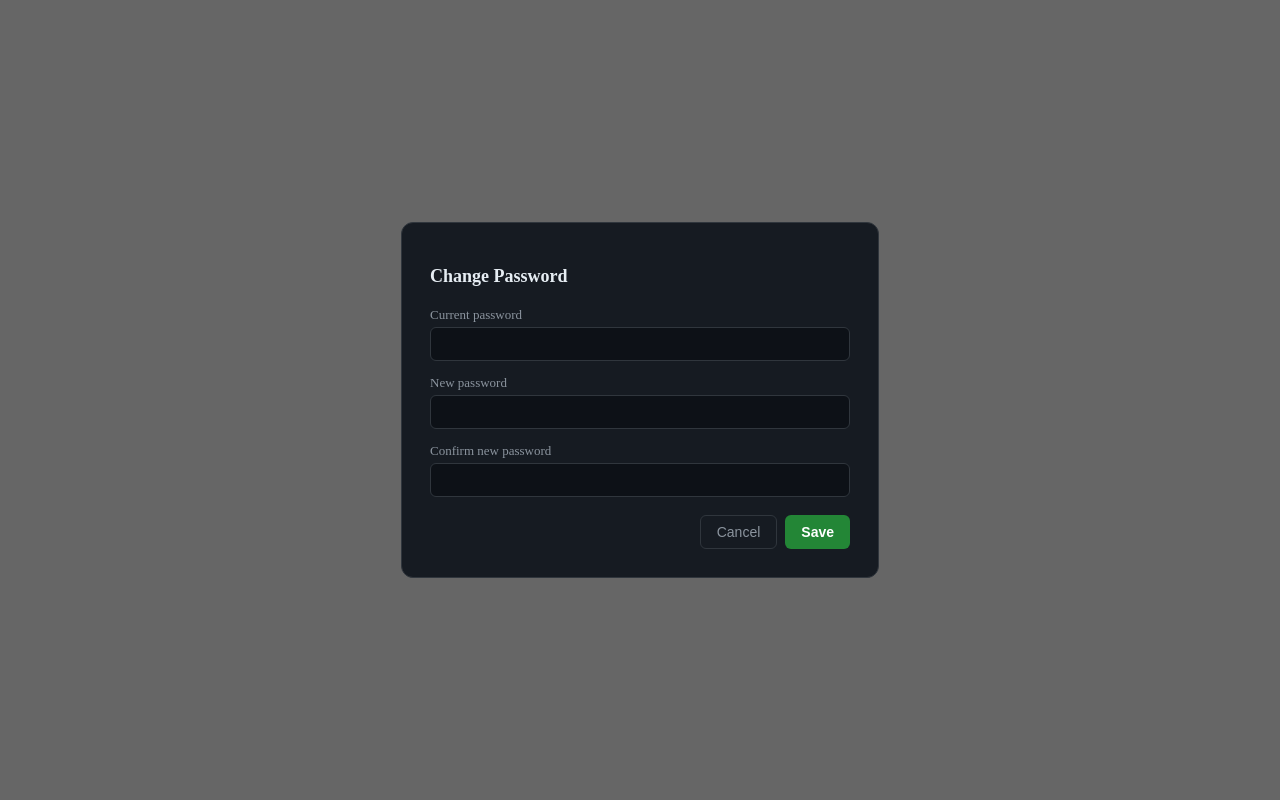
Test: ChangePasswordModal › shows error when new password is shorter than 8 chars
Type "current1" into the password field labelled "Current password" at (640, 344), box [430, 327, 850, 361]
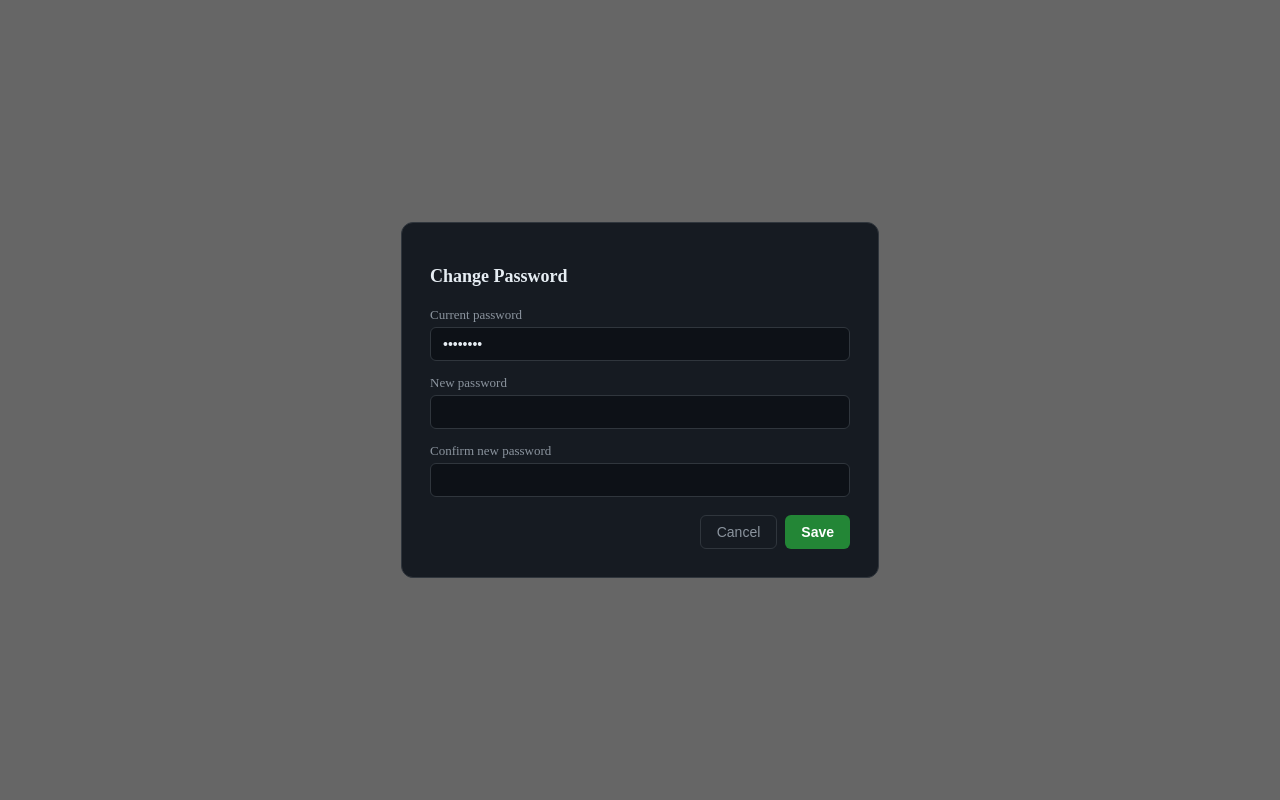
Type "short" into the password field labelled "New password" at (640, 412), box [430, 395, 850, 429]
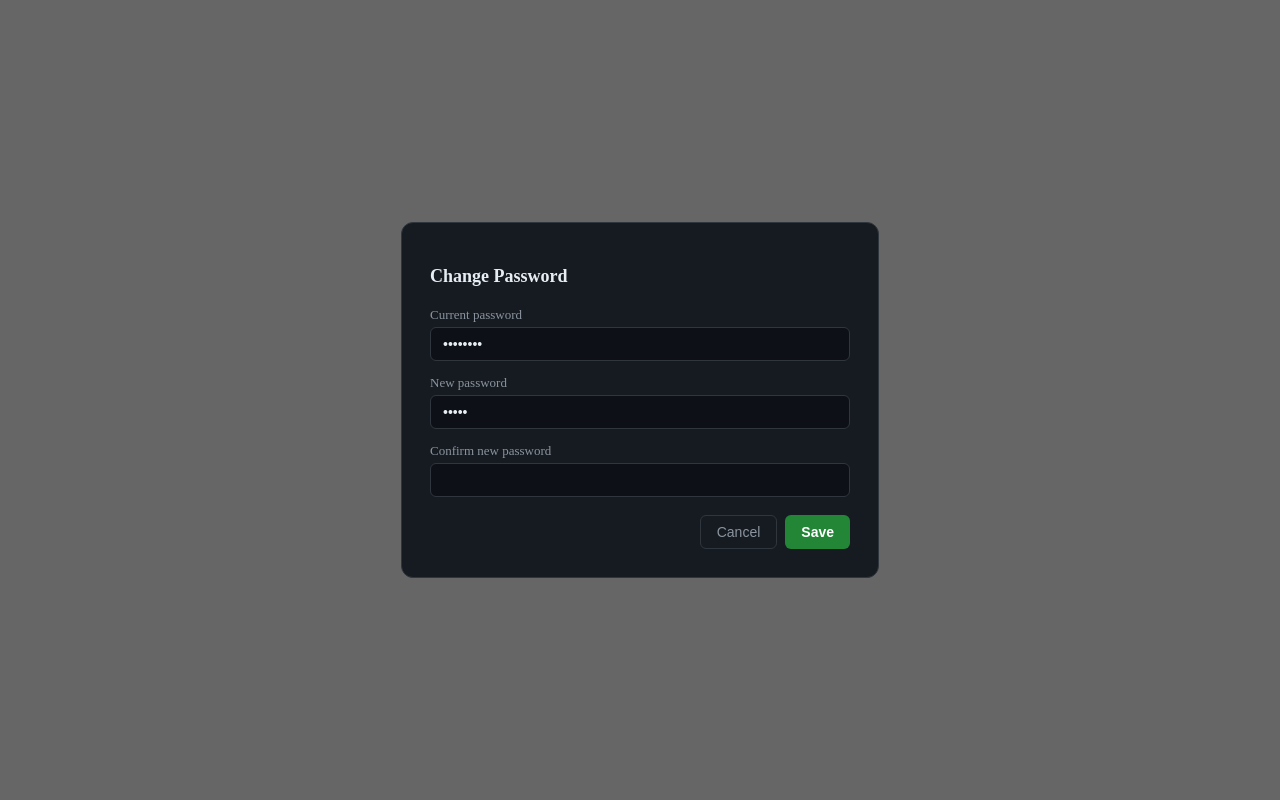
Type "short" into the password field labelled "Confirm new password" at (640, 480), box [430, 463, 850, 497]
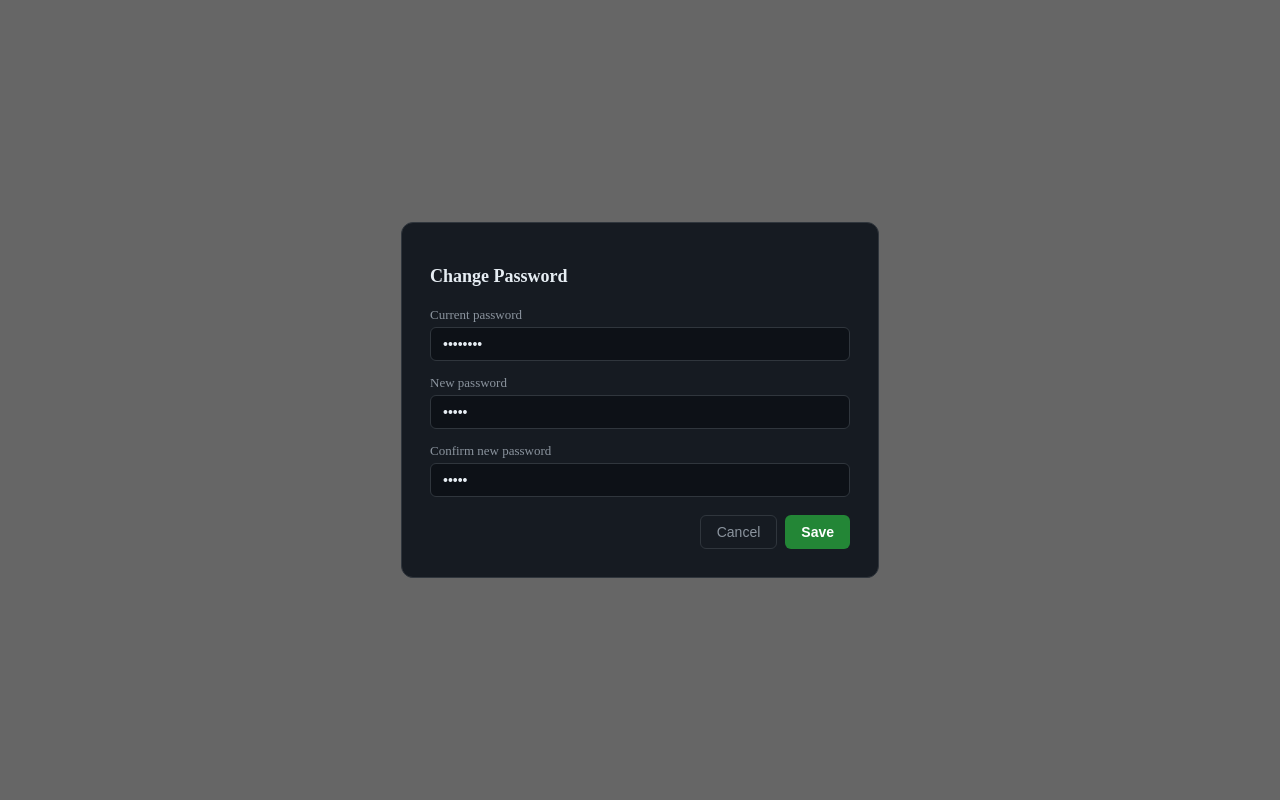
Click the button "Save" at (818, 532), box [785, 515, 850, 549]
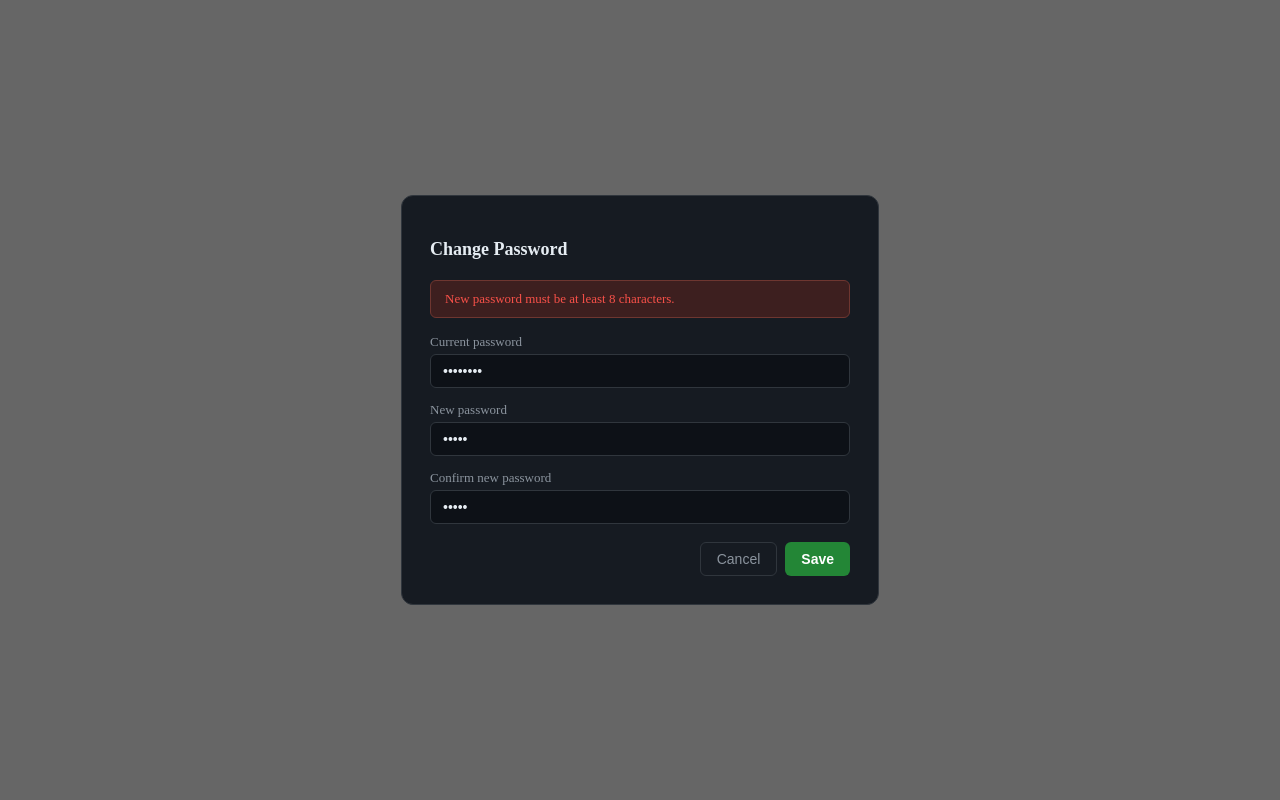
Expected: the text "New password must be at least 8 characters." is shown, [430, 280, 850, 318]
